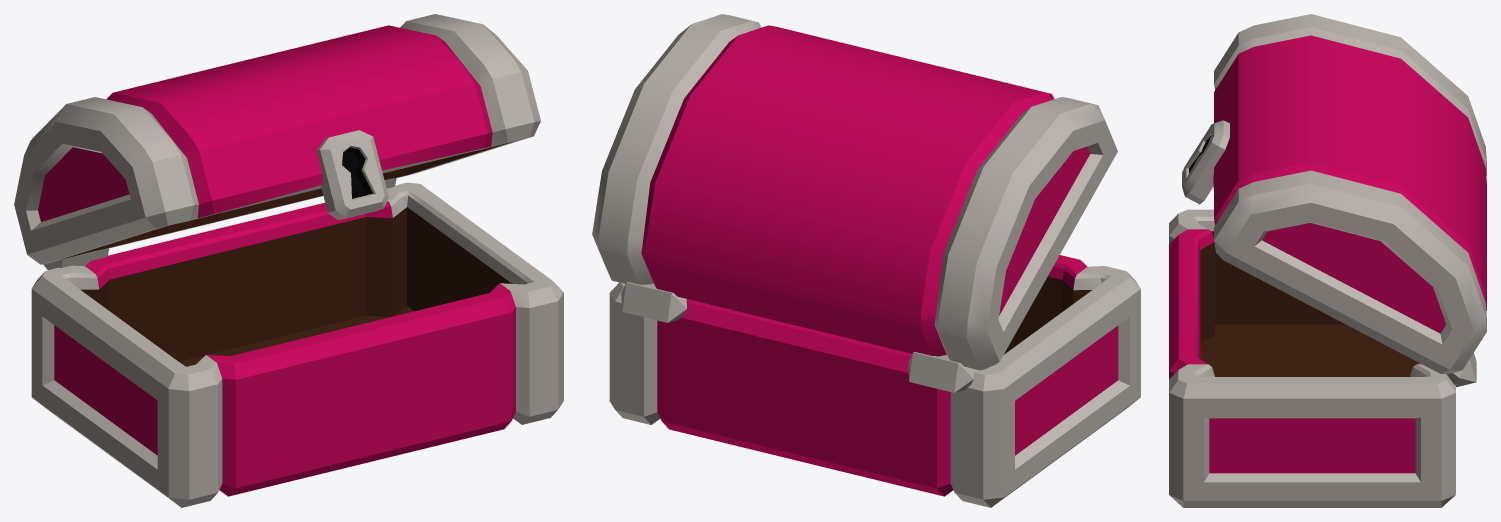
File: m_dec_dung_chestLargeA_open.fbx
3 views of the same model, side by side, from view 1: azimuth 30°, elevation 25°; view 2: azimuth 150°, elevation 25°; view 3: azimuth 270°, elevation 25° (orthographic). The views are drawn at different scales.
Visible parts, largest first — view 1: m_dec_dung_chestLargeA_open; view 2: m_dec_dung_chestLargeA_open; view 3: m_dec_dung_chestLargeA_open.
Boxes of the visible parts, x1,y1,x2,y2 form: m_dec_dung_chestLargeA_open: (14,14,563,507); m_dec_dung_chestLargeA_open: (592,14,1140,507); m_dec_dung_chestLargeA_open: (1169,14,1486,507).
Size of the model in its own units: 3 by 2.5 by 2.22.
